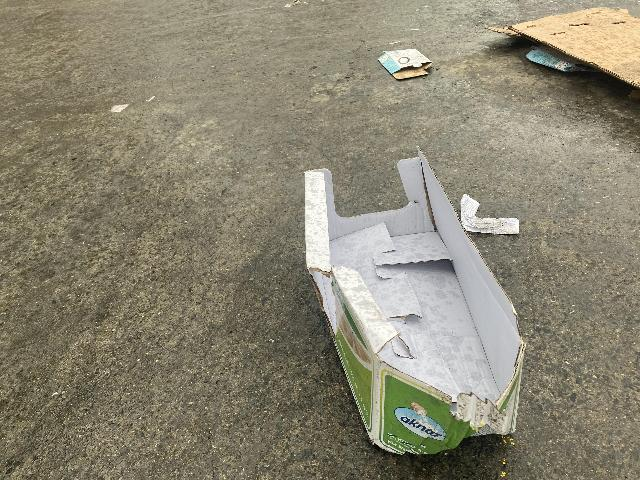Kagit: (304, 144, 526, 458), (484, 7, 640, 106), (378, 46, 435, 84)
